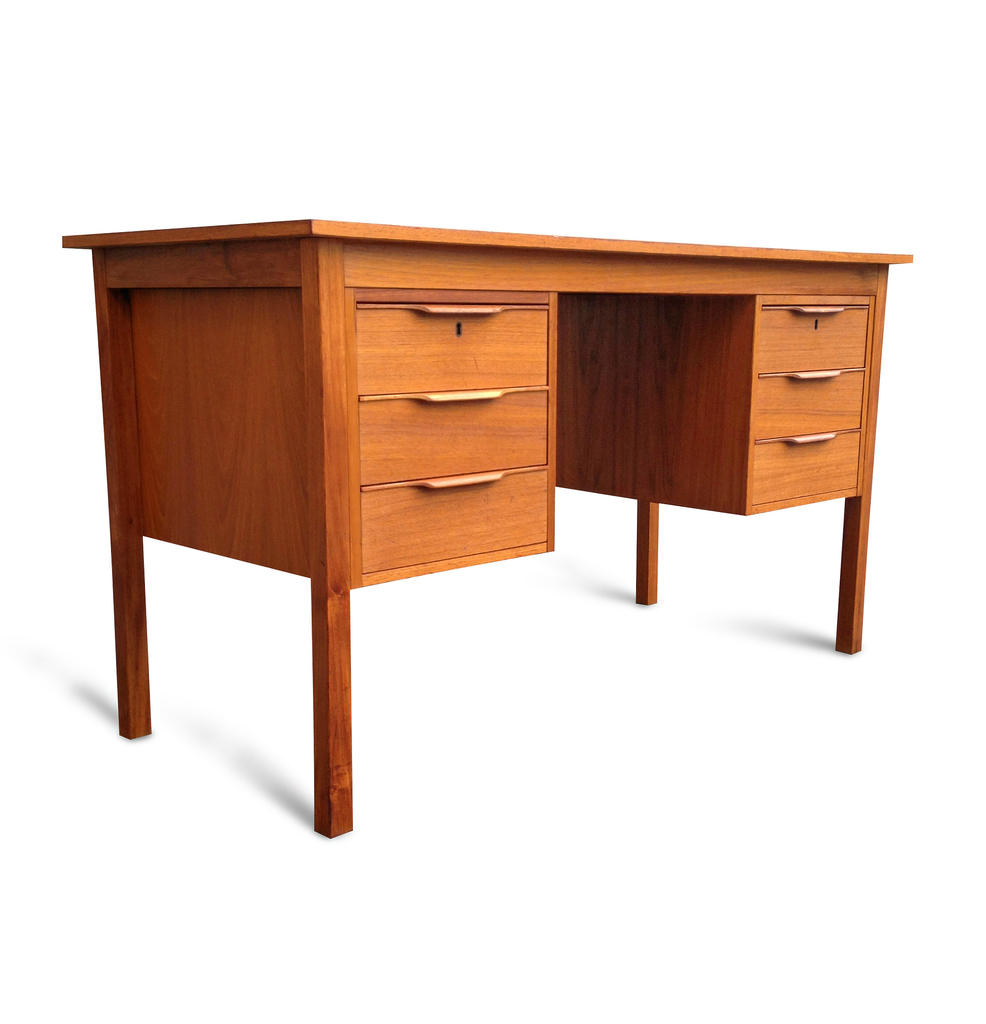cabinet door: (363, 303, 546, 380), (366, 393, 544, 464), (371, 474, 545, 539), (756, 304, 862, 356), (753, 444, 850, 496), (759, 383, 860, 422)
handle: (410, 388, 497, 417), (416, 474, 506, 498), (421, 296, 500, 320), (783, 297, 853, 324), (783, 421, 833, 458), (786, 366, 841, 388)
